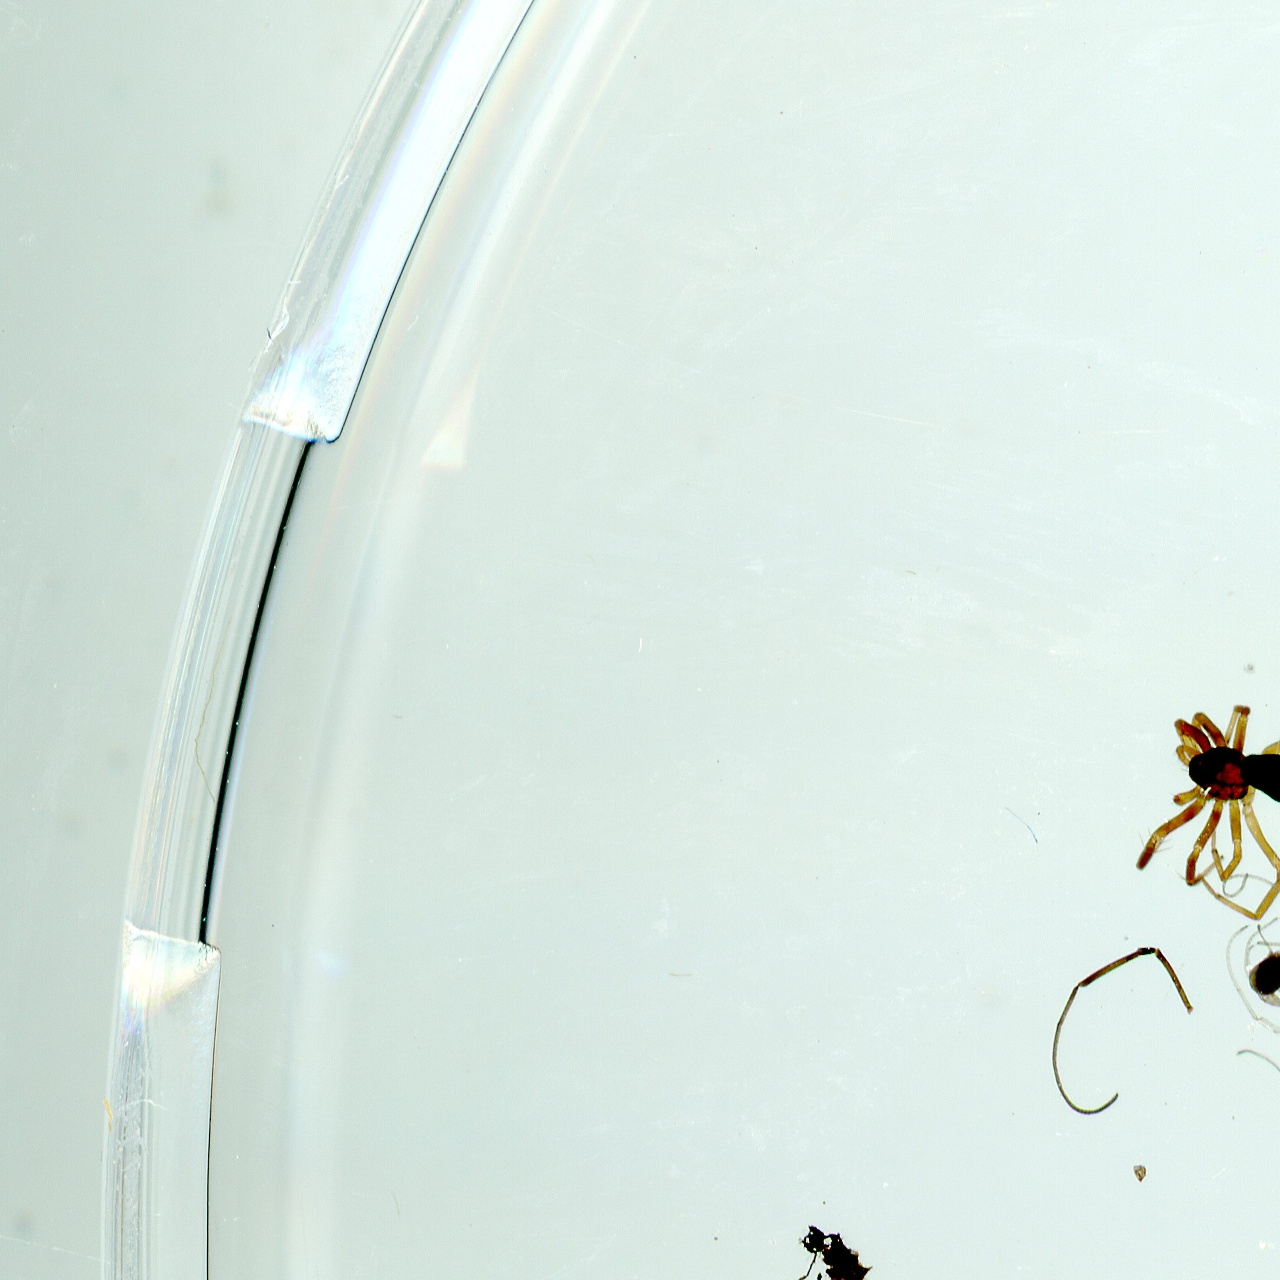arthropod: (1119, 696, 1280, 922), (1202, 860, 1280, 1088)
